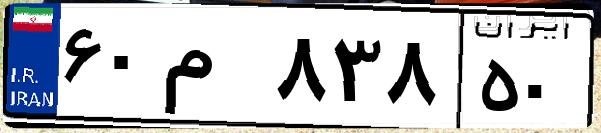0: (525, 38, 570, 115), (110, 28, 158, 98)
3: (330, 28, 385, 110)
5: (475, 38, 525, 113)
6: (57, 26, 110, 100)
8: (270, 28, 330, 110), (385, 28, 445, 110)
م: (158, 20, 270, 120)
